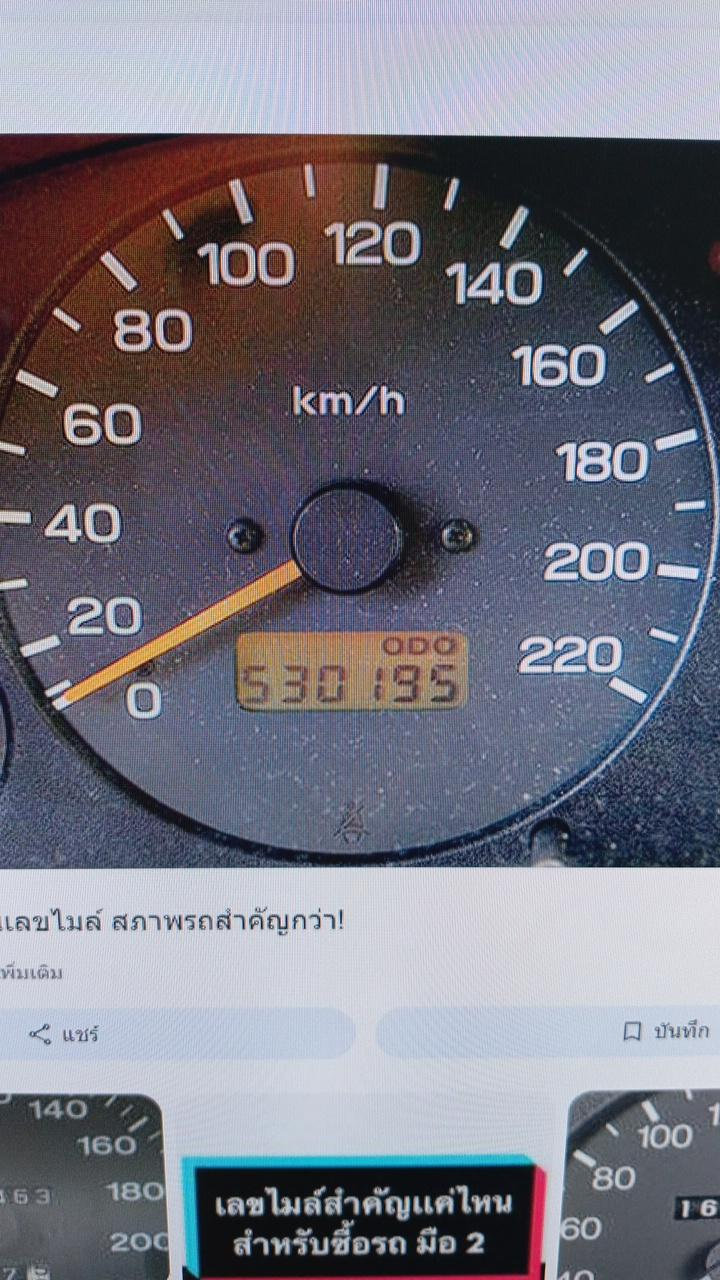0: (317, 663, 345, 703)
1: (370, 665, 385, 703)
3: (280, 661, 309, 704)
5: (241, 662, 271, 703), (430, 662, 458, 704)
9: (392, 663, 422, 704)
odometer: (233, 627, 471, 712)
